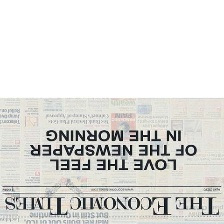news_paper: (0, 94, 224, 224)
